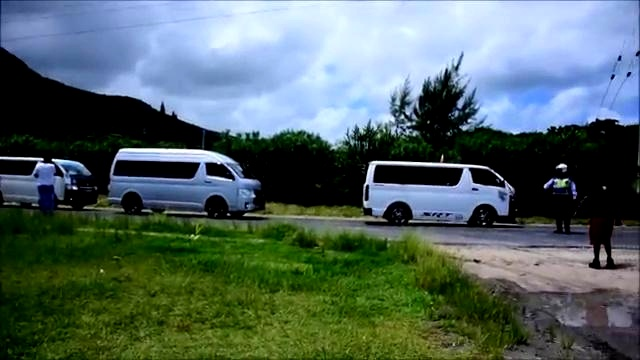van: (108, 143, 266, 222), (361, 159, 520, 235)
